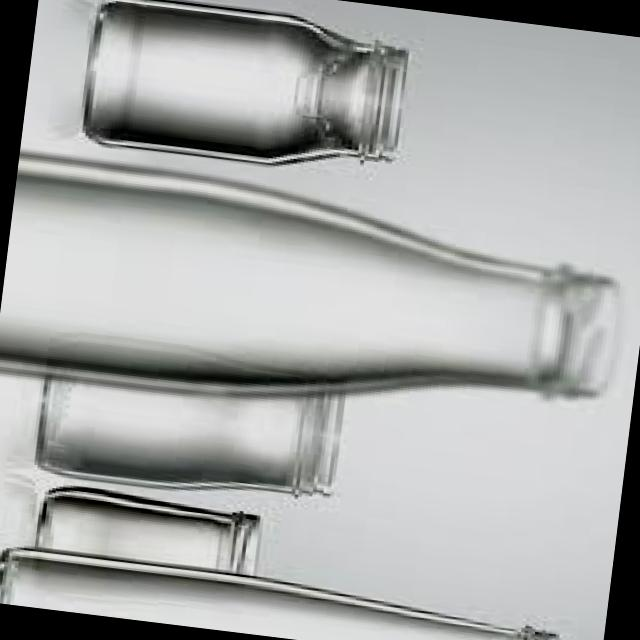bottle: (0, 153, 618, 396), (84, 0, 408, 164), (0, 547, 558, 639), (37, 379, 342, 494), (35, 485, 259, 574)
